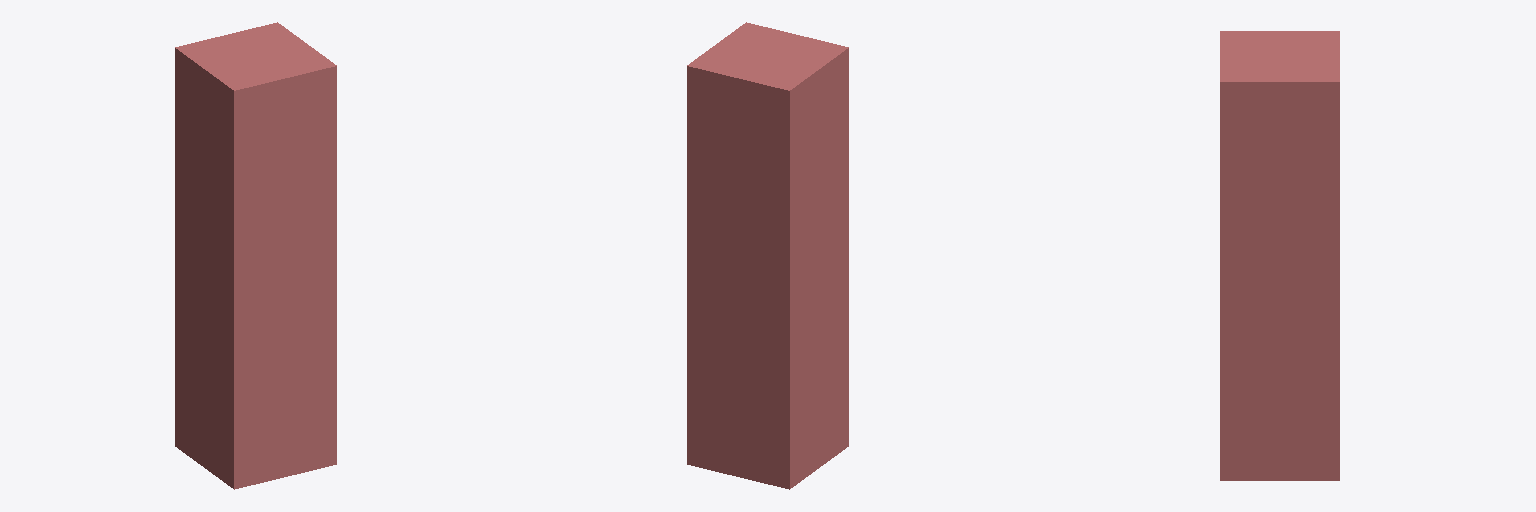
Rendered from piller.obj.
3 renders of one model, left to right at view 1: azimuth 30°, elevation 25°; view 2: azimuth 150°, elevation 25°; view 3: azimuth 270°, elevation 25°, orthographic.
Visible parts, largest first — view 1: Cube; view 2: Cube; view 3: Cube.
Part boxes in pixels (x1,y1,x2,y2): Cube: (175, 22, 336, 489); Cube: (687, 22, 848, 489); Cube: (1220, 31, 1339, 480).
Bounding box in the file's own units: 2 × 7.39 × 2.